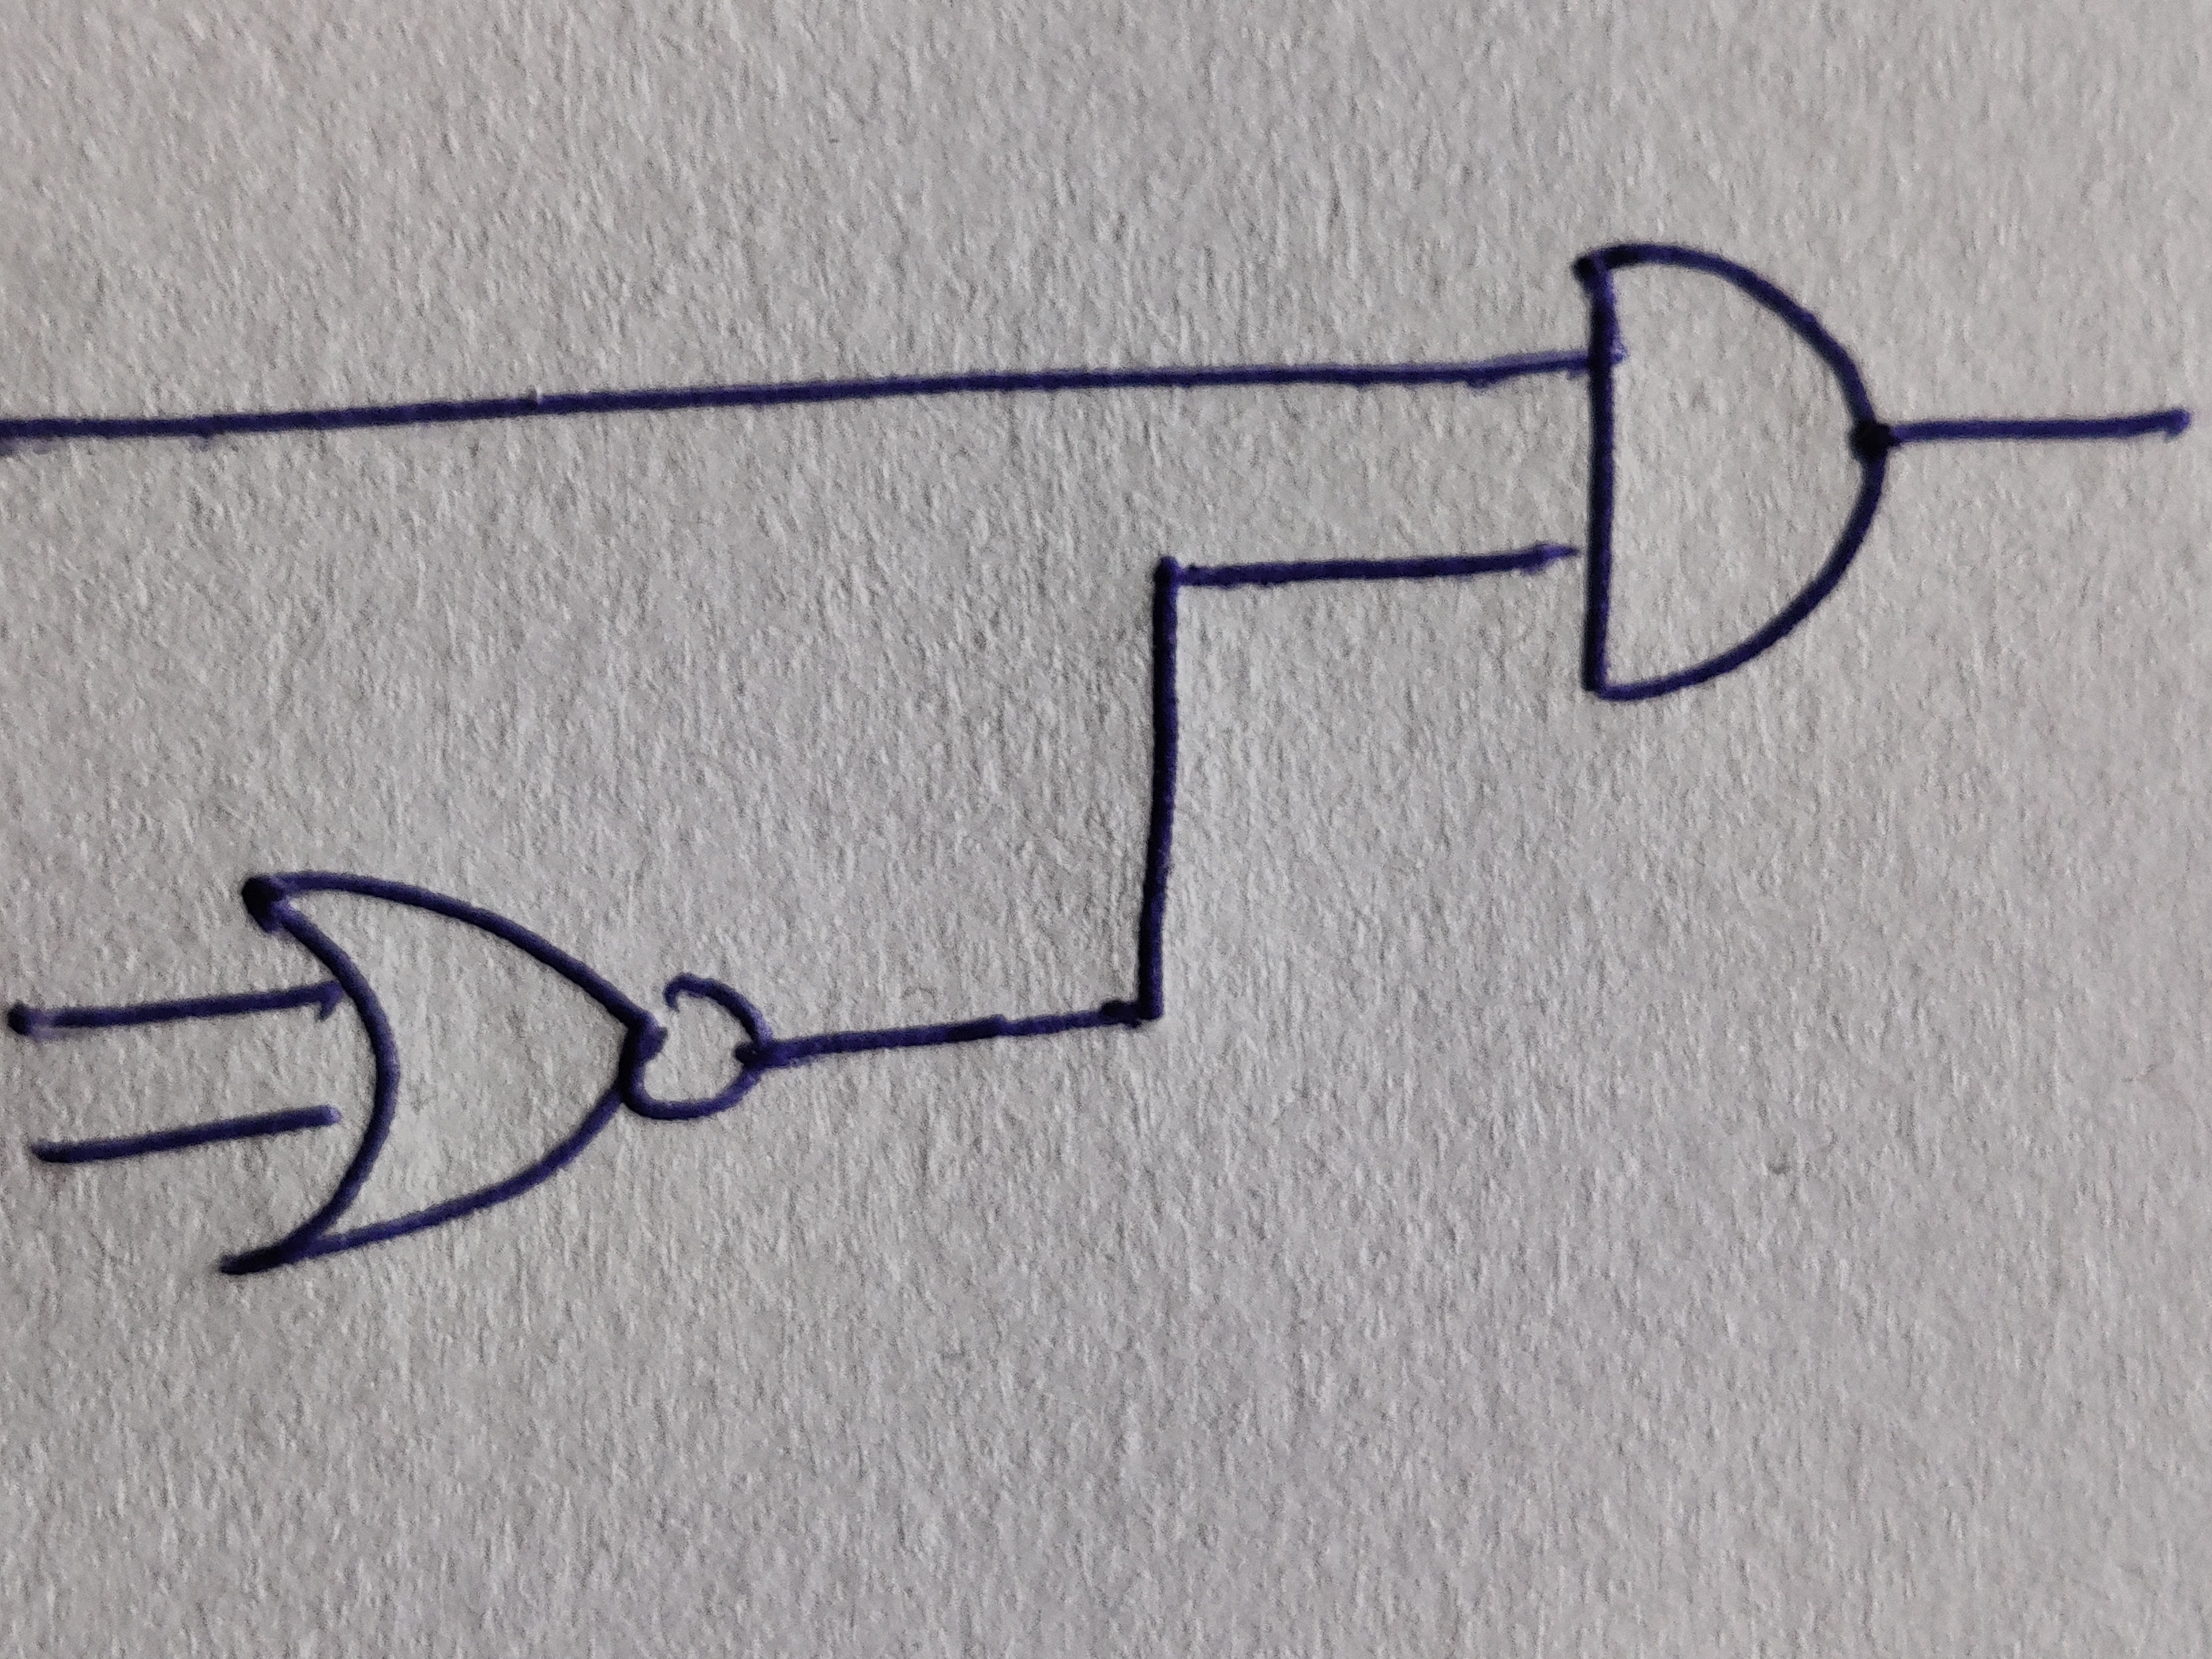and: (1575, 240, 1890, 701)
not: (618, 974, 773, 1121)
or: (216, 871, 658, 1277)
